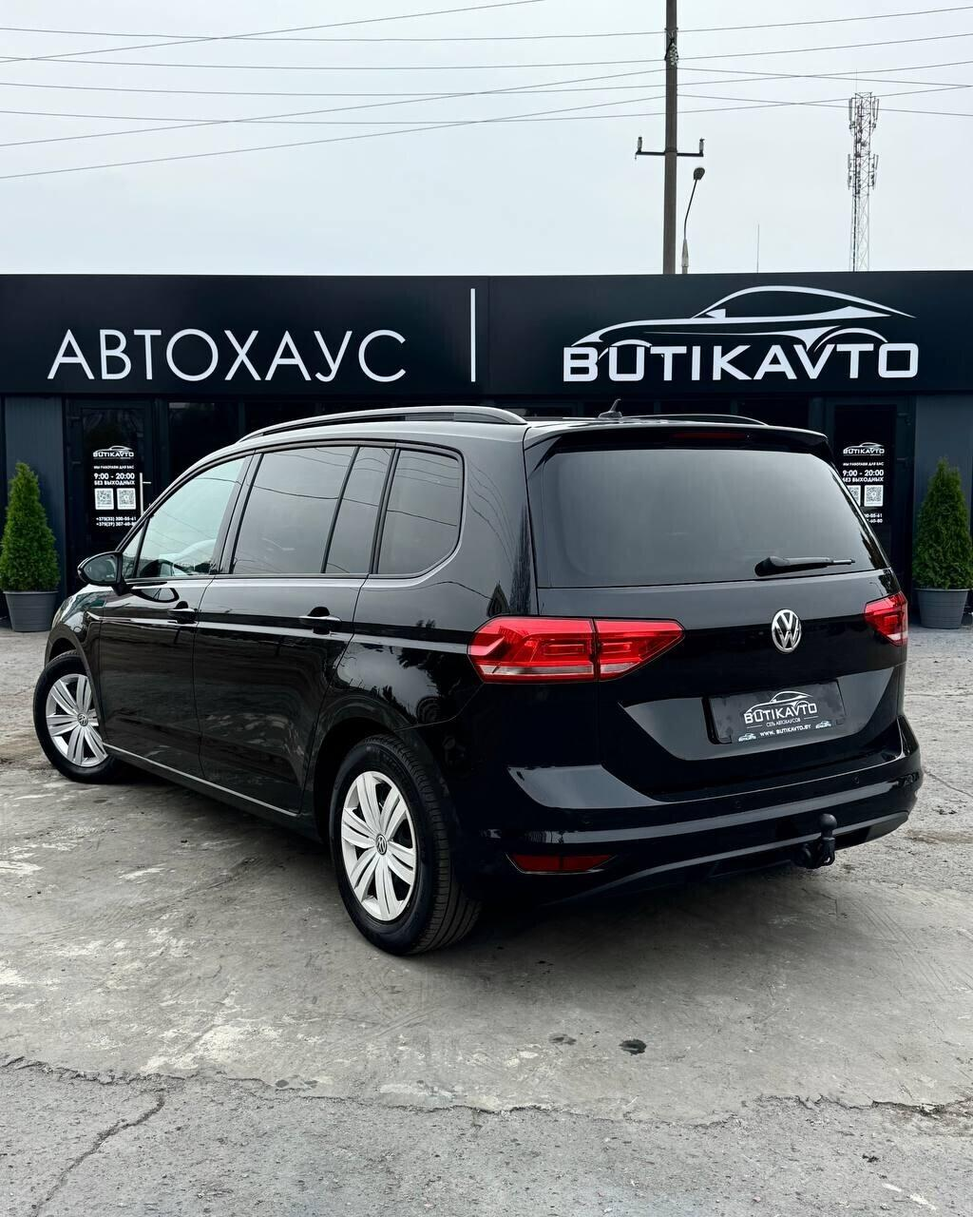Touran_2015: (30, 414, 919, 941)
